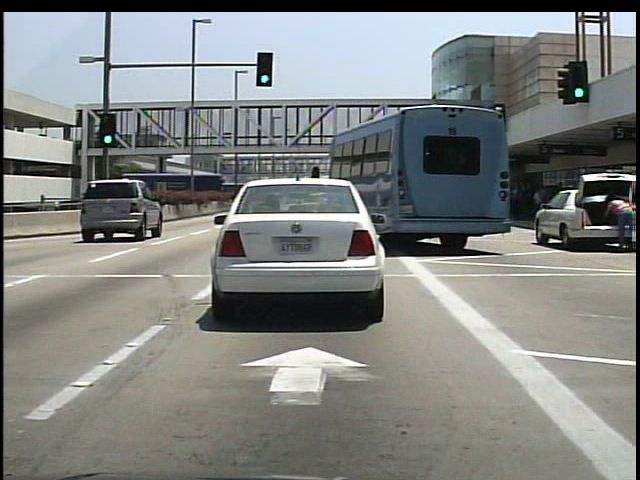person: (605, 191, 636, 254)
